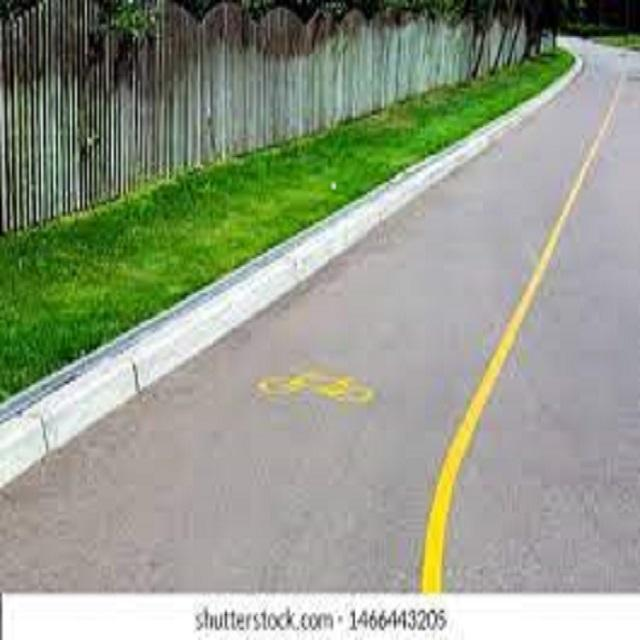curb: (118, 287, 214, 398), (50, 334, 127, 455), (1, 397, 79, 485), (210, 242, 289, 328), (282, 202, 355, 286), (418, 117, 487, 190), (342, 170, 417, 232), (471, 105, 522, 152)
